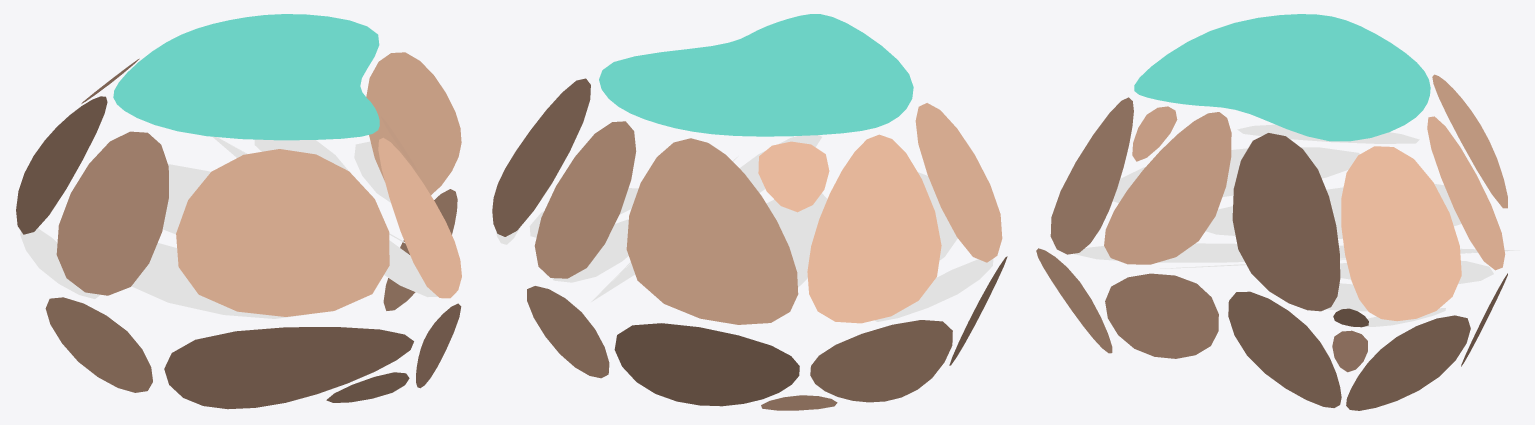
File: background-rock-larged.glb
The picture shows the model from 3 angles, left to right: view 1: azimuth 30°, elevation 25°; view 2: azimuth 150°, elevation 25°; view 3: azimuth 270°, elevation 25°; orthographic projection. The views are drawn at different scales.
Visible parts, largest first — view 1: rock_largeD; view 2: rock_largeD; view 3: rock_largeD.
Part boxes in pixels (x1,y1,x2,y2): rock_largeD: [16, 14, 461, 409]; rock_largeD: [492, 14, 1007, 410]; rock_largeD: [1036, 14, 1519, 410].
Size of the model in its own units: 1.03 by 0.5683 by 1.01.
